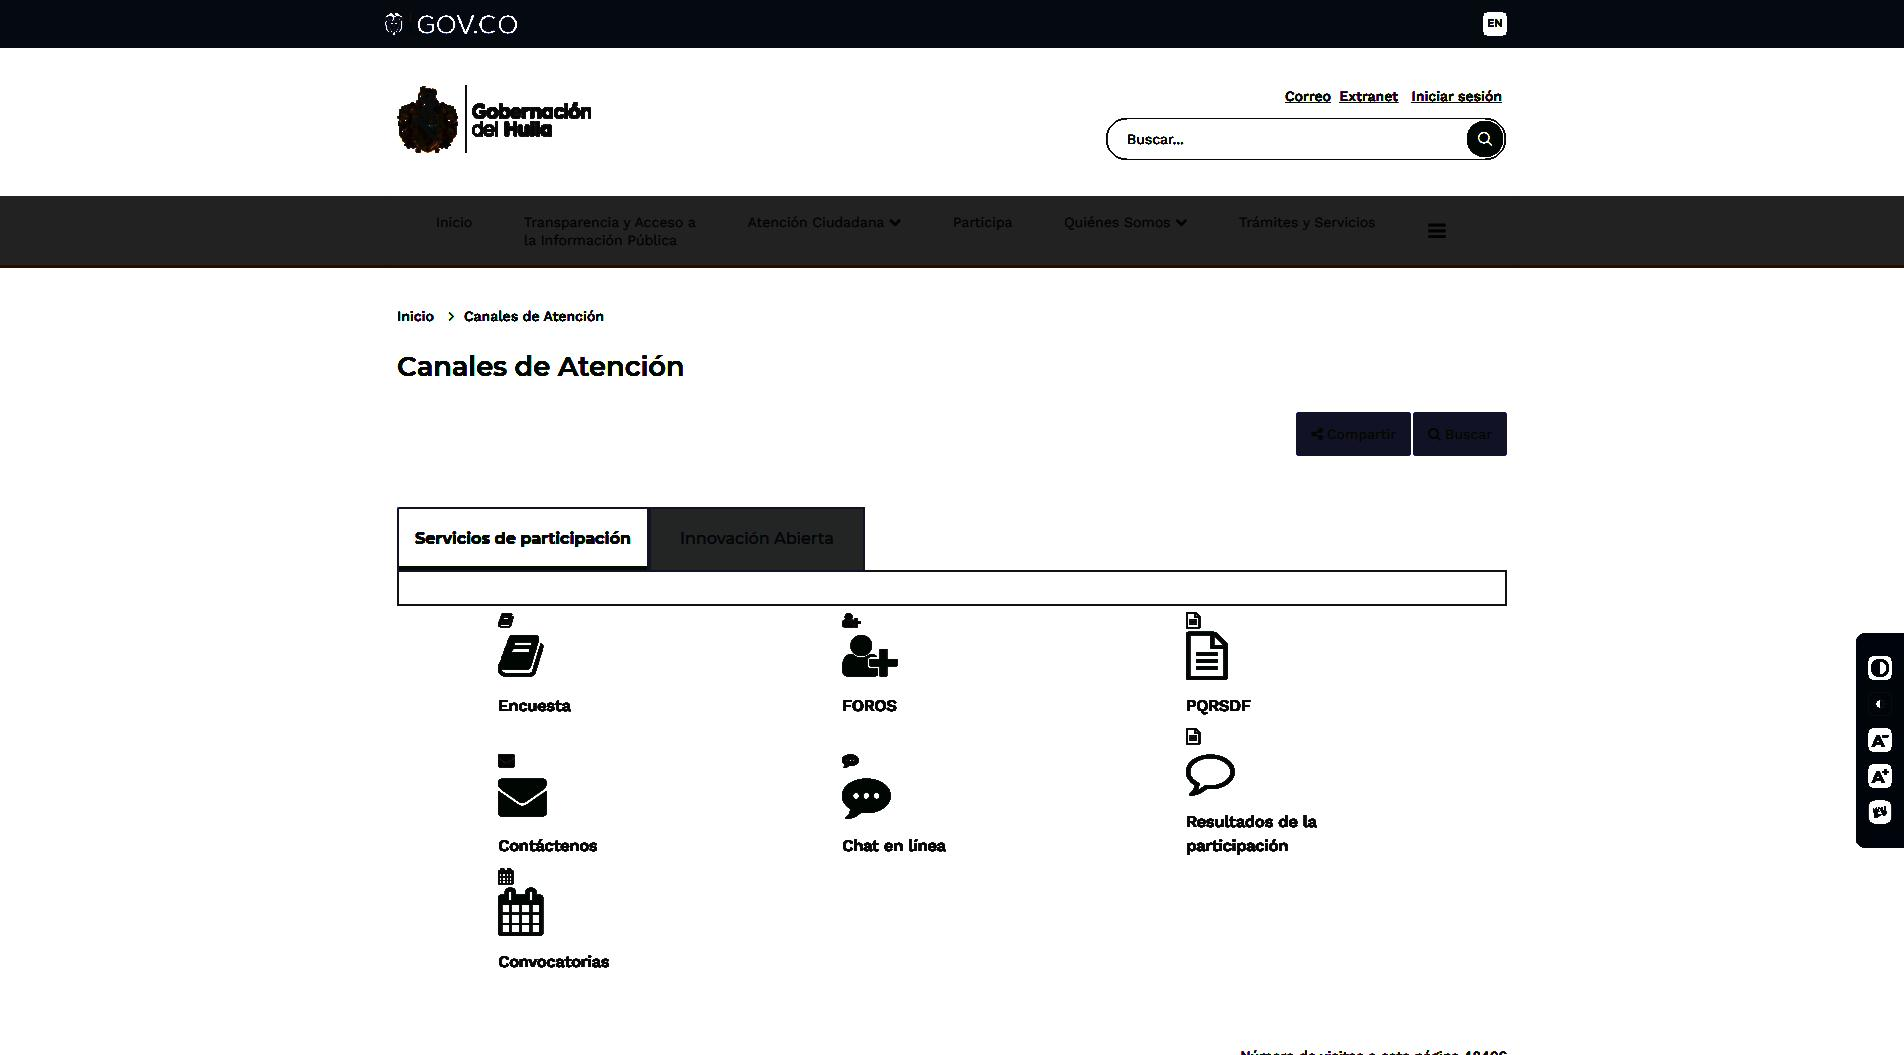barra accesibilidad: (1854, 630, 1904, 849)
barra govco: (378, 1, 1511, 52)
btn atencion ciudadano: (745, 213, 904, 232)
btn buscador: (1103, 115, 1508, 162), (1422, 427, 1445, 447)
btn idiomas: (1481, 9, 1509, 38)
btn inicio: (433, 214, 474, 231)
btn inicio sesion: (1410, 88, 1504, 105)
btn participa: (952, 214, 1018, 232)
btn quienes somos: (1060, 212, 1189, 236)
btn tramites: (1235, 211, 1379, 234)
btn transpariencia: (518, 213, 701, 250)
logogovco: (381, 11, 520, 41)
menu principal: (428, 191, 1451, 252)
